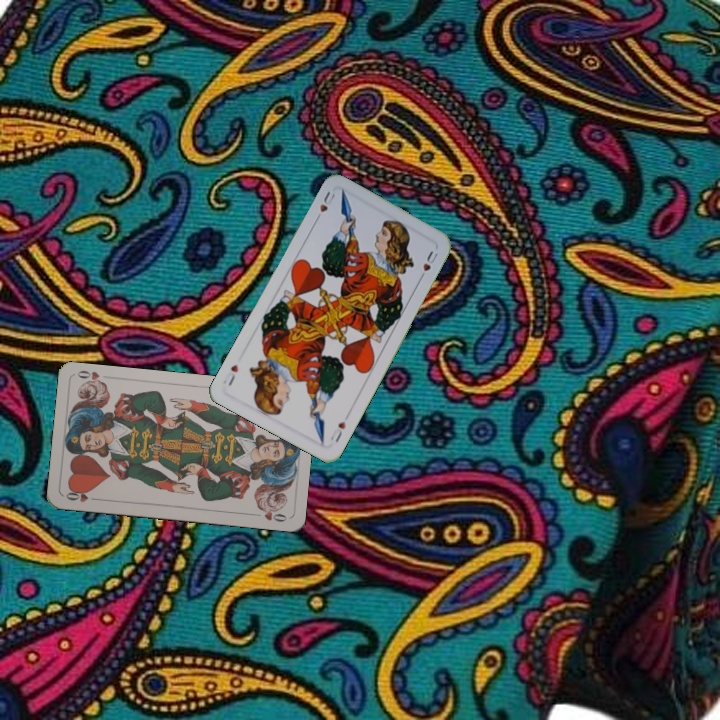HO: (62, 486, 102, 504)
HU: (311, 187, 338, 224), (326, 417, 348, 445)
